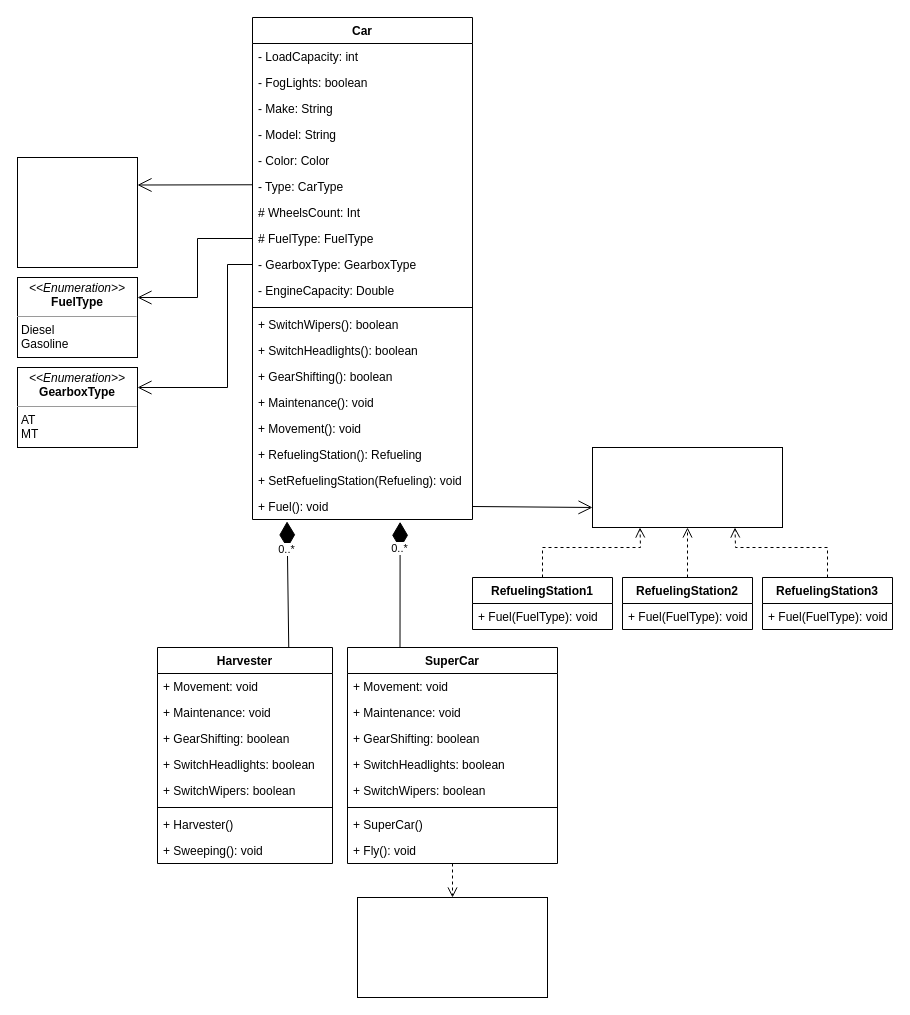
Some shapes in this 910 by 1015 pixel diagram are drawn without their labels. Each missing label, with the centre of its shape:
<<Enumeration>> CarType Sedan Hatchback Pickup Sport: the point at 77,212
<<Interface>> Refueling + Fuel(FuelType): the point at 687,487
<<Interface>> Wiping + WipMirrors () + WipWindshield() + WipHeadlights(): the point at 452,947
